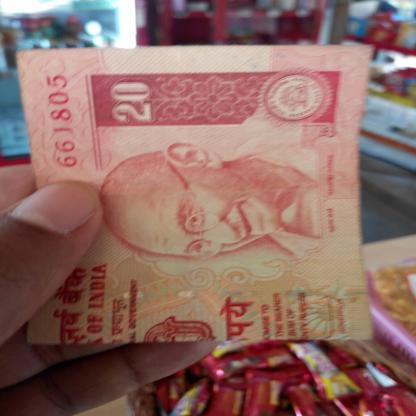Old20Front: (16, 52, 366, 338)
